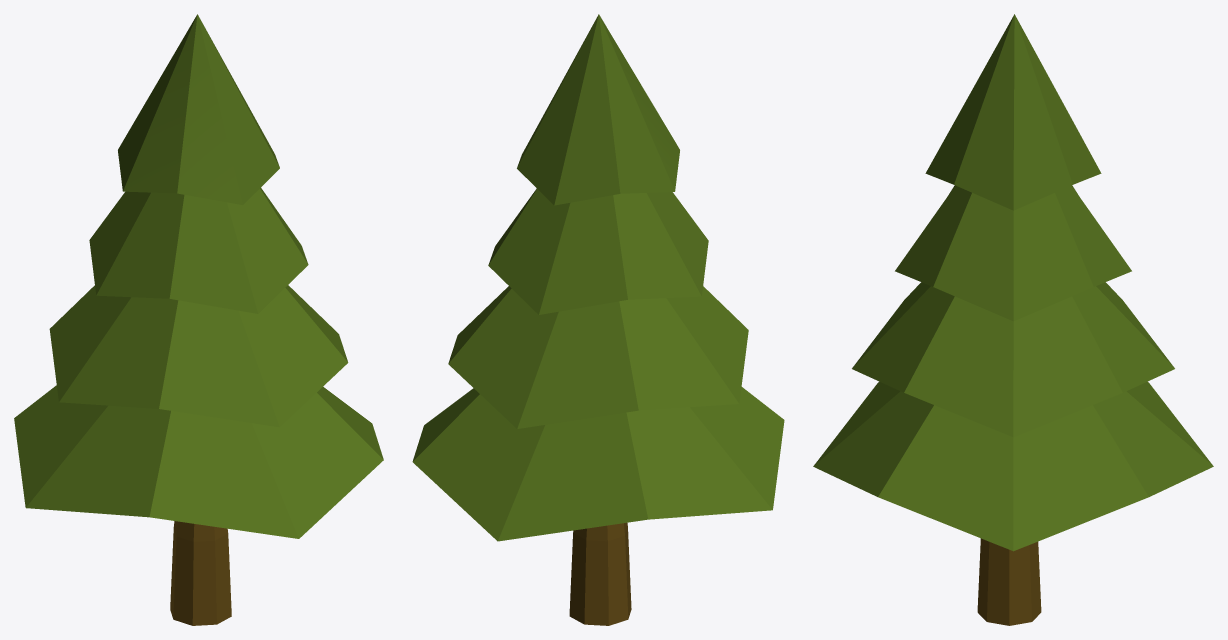
File: Tree.fbx
3 renders of one model, left to right at view 1: azimuth 30°, elevation 25°; view 2: azimuth 150°, elevation 25°; view 3: azimuth 270°, elevation 25°, orthographic.
Parts seen in each view (by area): view 1: tree; view 2: tree; view 3: tree.
Part boxes in pixels (x1=…): tree: x1=14, y1=14, x2=383, y2=625; tree: x1=412, y1=14, x2=784, y2=625; tree: x1=813, y1=14, x2=1213, y2=625.
Bounding box in the file's own units: 397 × 654 × 397.
